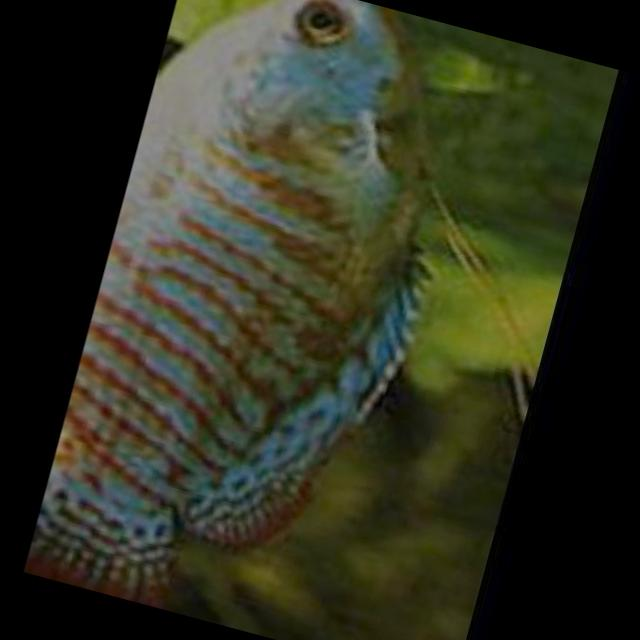Gourami: (20, 0, 498, 640)
